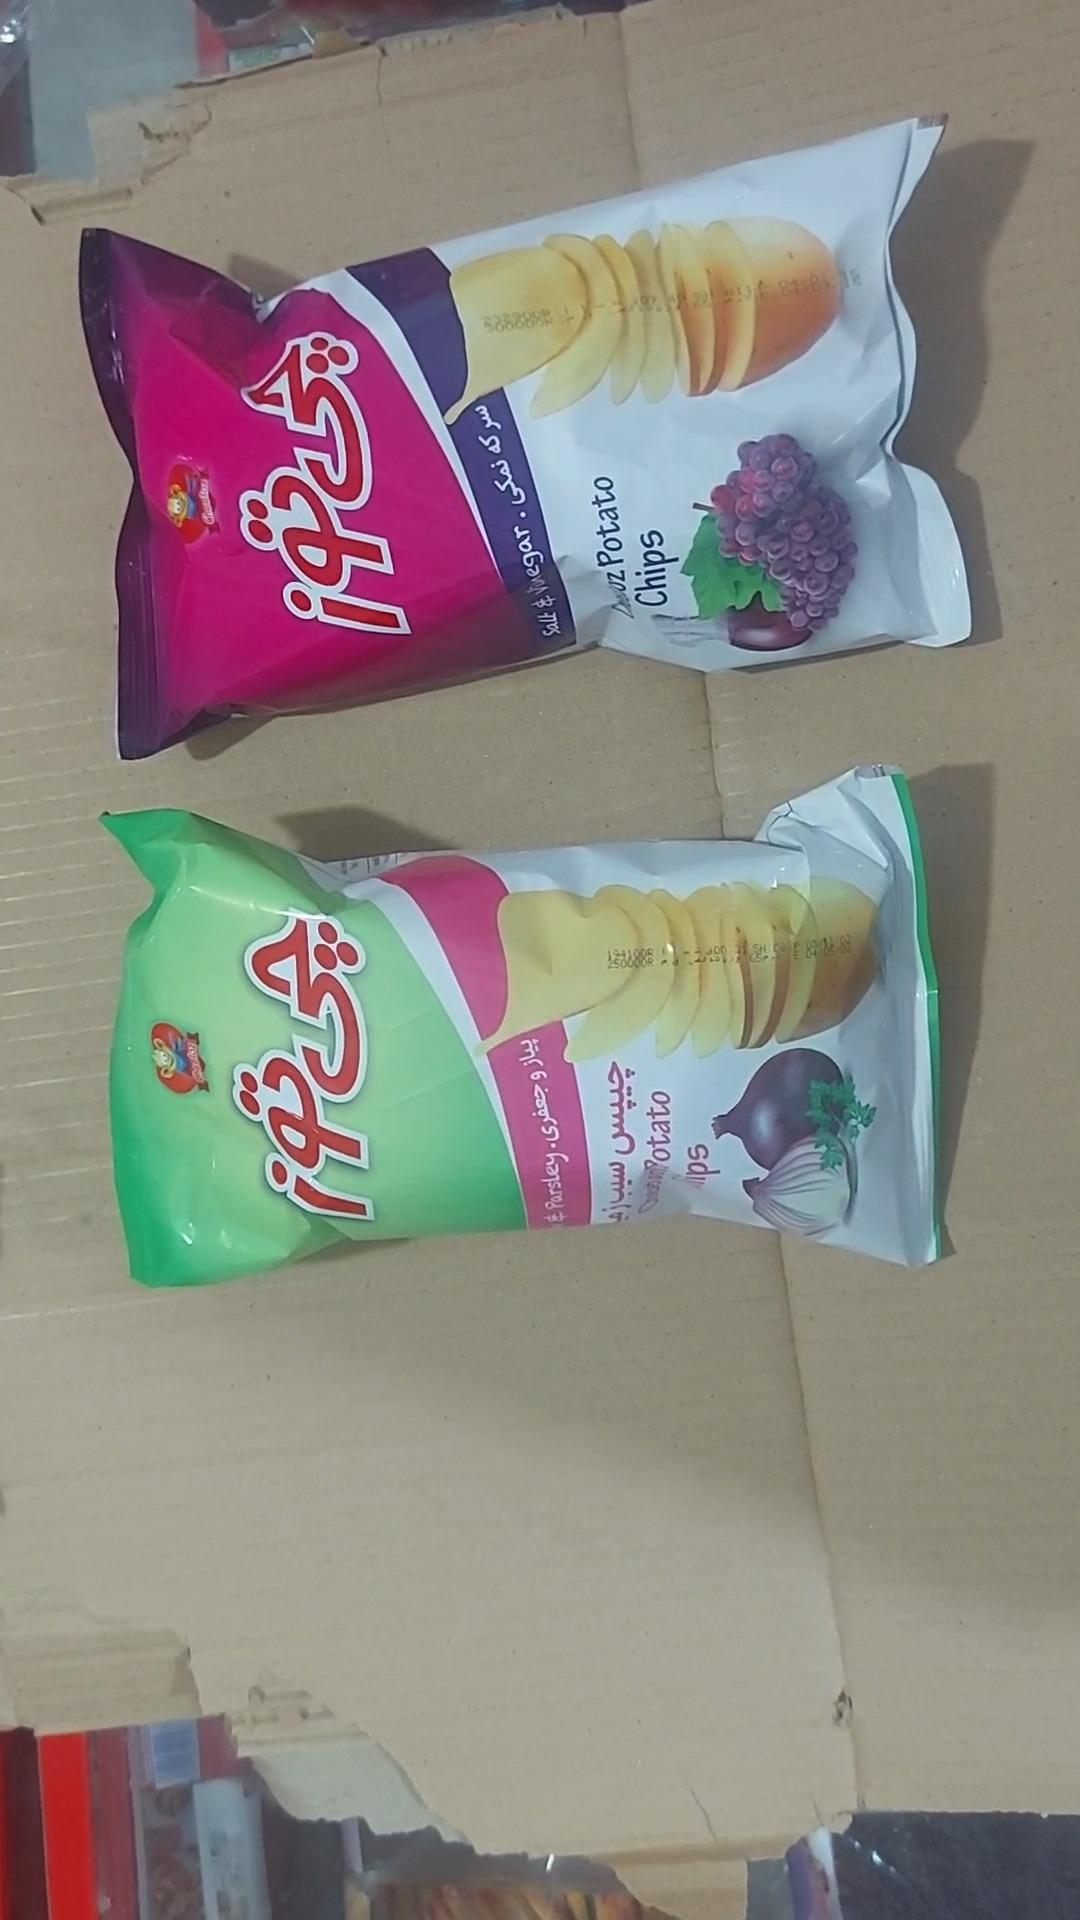Cheetoz onion and parsley chips: (105, 777, 935, 1287)
Cheetoz vinegar chips: (79, 119, 971, 760)
